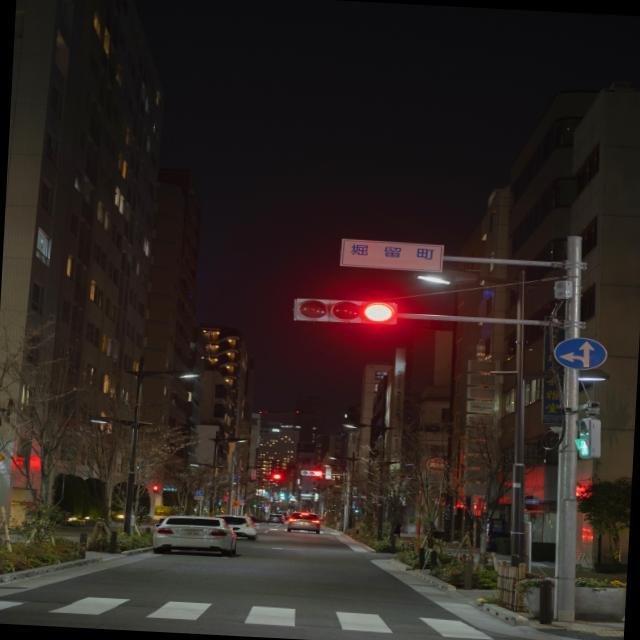red: (366, 298, 397, 330)
